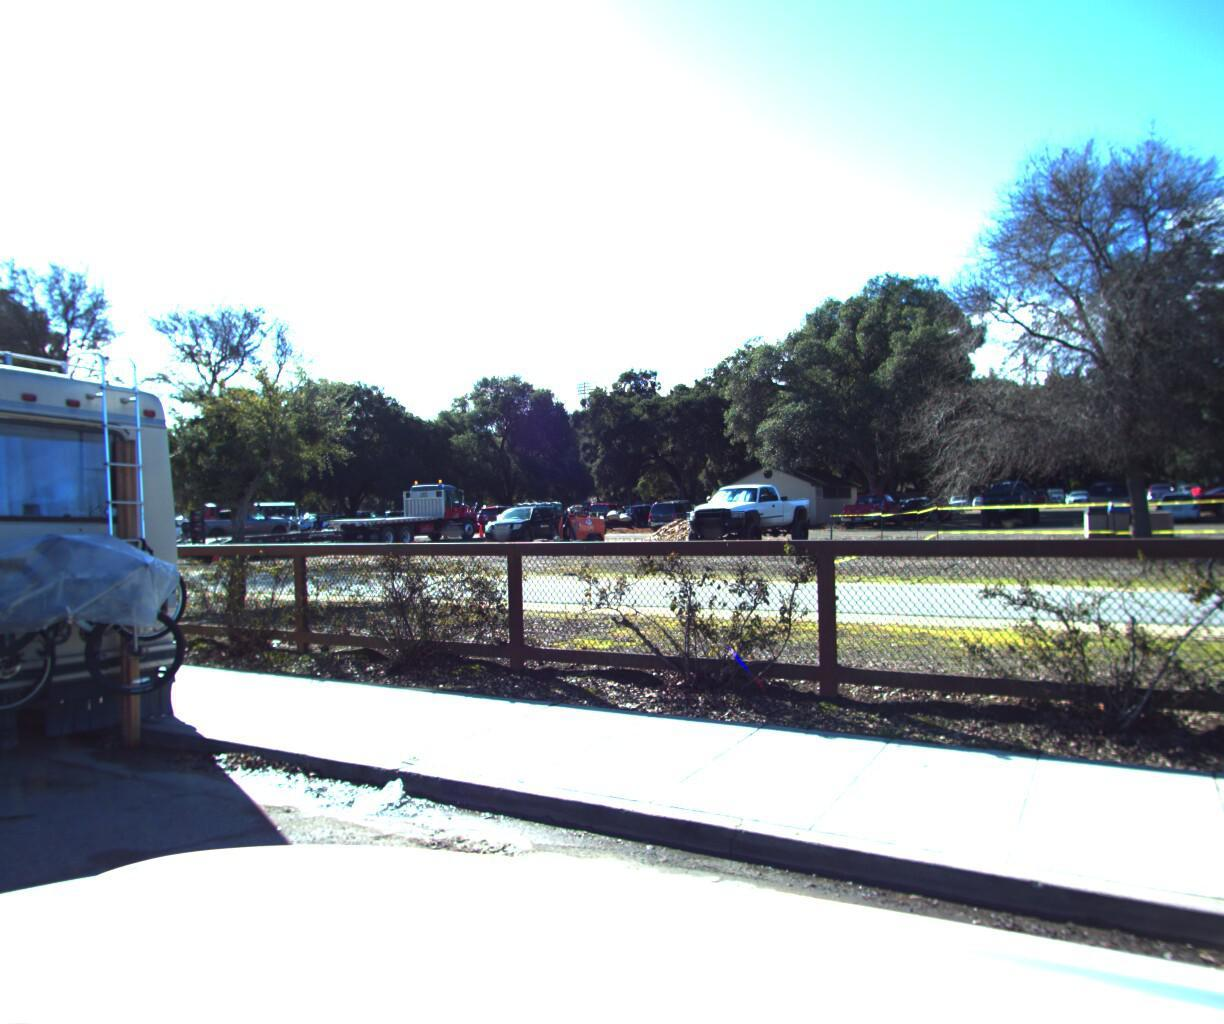bicycle: (1194, 448, 1224, 602)
other_vehicle: (0, 278, 282, 838)
